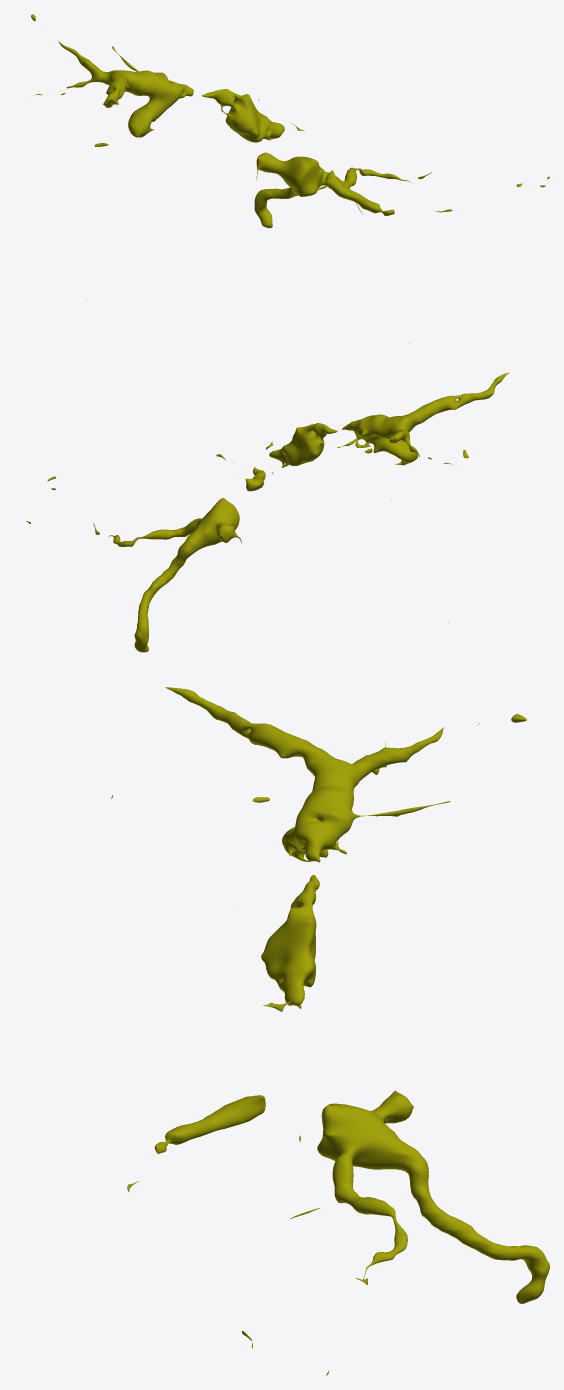
The model's file is portal_vein_blended.glb.
3 views of the same model, one above another, from view 1: azimuth 30°, elevation 25°; view 2: azimuth 150°, elevation 25°; view 3: azimuth 270°, elevation 25° (orthographic). The views are drawn at different scales.
Visible parts, largest first — view 1: Portal vein; view 2: Portal vein; view 3: Portal vein.
Boxes of the visible parts, bbox=[...] form: Portal vein: bbox=[31, 14, 549, 300]; Portal vein: bbox=[26, 343, 509, 652]; Portal vein: bbox=[111, 687, 549, 1375].
Size of the model in its own units: 222 by 129 by 141.
